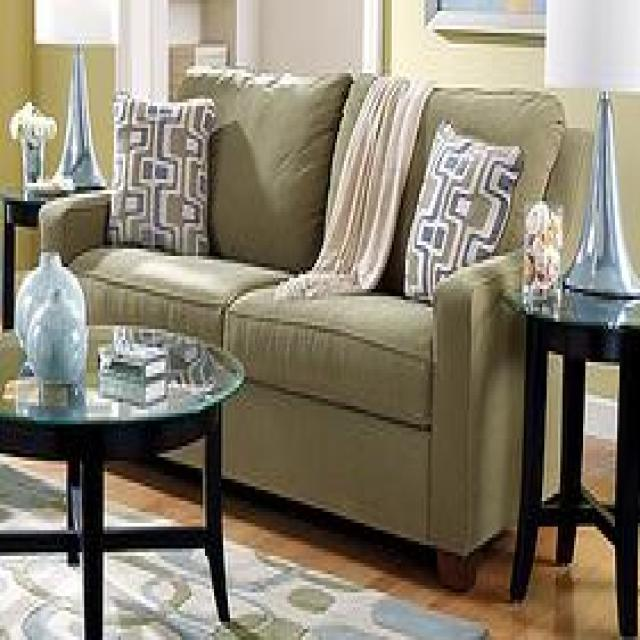sofa: (31, 60, 604, 598)
